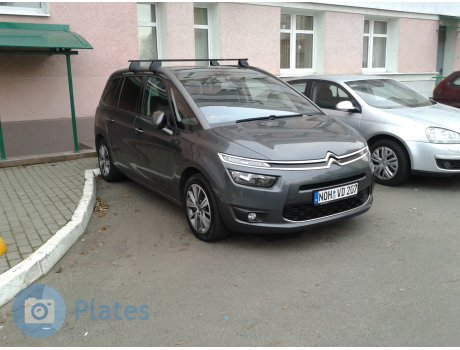License Plates: (319, 188, 356, 196)
